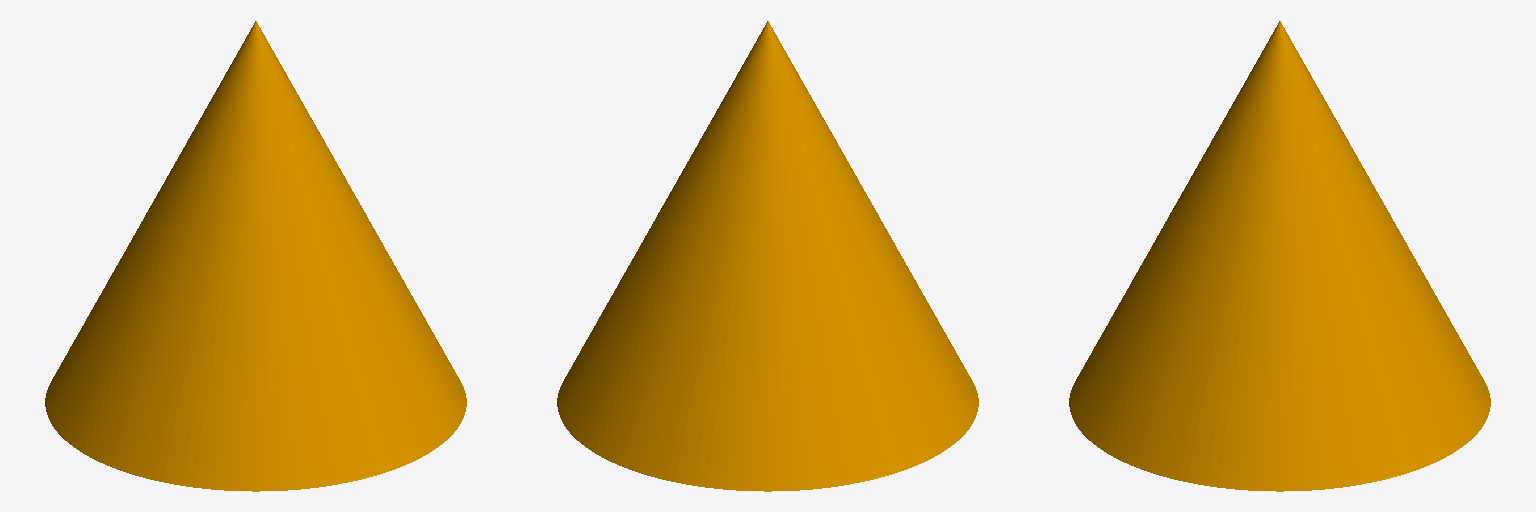
The robot description file, URDF, robot "simple_object":
<robot name="simple_object">
  <link name="my_object">
    <inertial>
      <origin xyz="0 0 0" />
      <mass value="1.0" />
      <inertia  ixx="0.00102" ixy="0.0"  ixz="0.0"  iyy="0.00102"  iyz="0.0"  izz="0.00012" />
    </inertial>
    <visual>
      <origin xyz="0 0 0" rpy="0 0 0"/>
      <geometry>
        <mesh filename="package://affordance_experiment/models/cone.dae" />
      </geometry>
    </visual>
    <collision>
      <origin xyz="0 0 0" rpy="0 0 0"/>
      <geometry>
        <mesh filename="package://affordance_experiment/models/cone.dae" />
      </geometry>
    </collision>
  </link>
  <gazebo reference="my_object">
    <material>Gazebo/Blue</material>
  </gazebo>
</robot>

--- What the picture shows (computed from the rendered views, not written in the file) ---
3 views of the same robot in one strip: view 1: azimuth 30°, elevation 25°; view 2: azimuth 150°, elevation 25°; view 3: azimuth 270°, elevation 25° (orthographic).
Model simple_object with 1 links and 0 joints (none), rooted at my_object, posed all joints at 0.
Links seen in each view (by area): view 1: my_object; view 2: my_object; view 3: my_object.
Link boxes in pixels (bbox=[...]): my_object: bbox=[45, 21, 466, 491]; my_object: bbox=[557, 21, 978, 491]; my_object: bbox=[1069, 21, 1490, 491].
Size in the robot's own frame: 0.04 by 0.04 by 0.04 metres.
1 mesh visuals loaded from 1 distinct referenced files (1 Collada DAE).